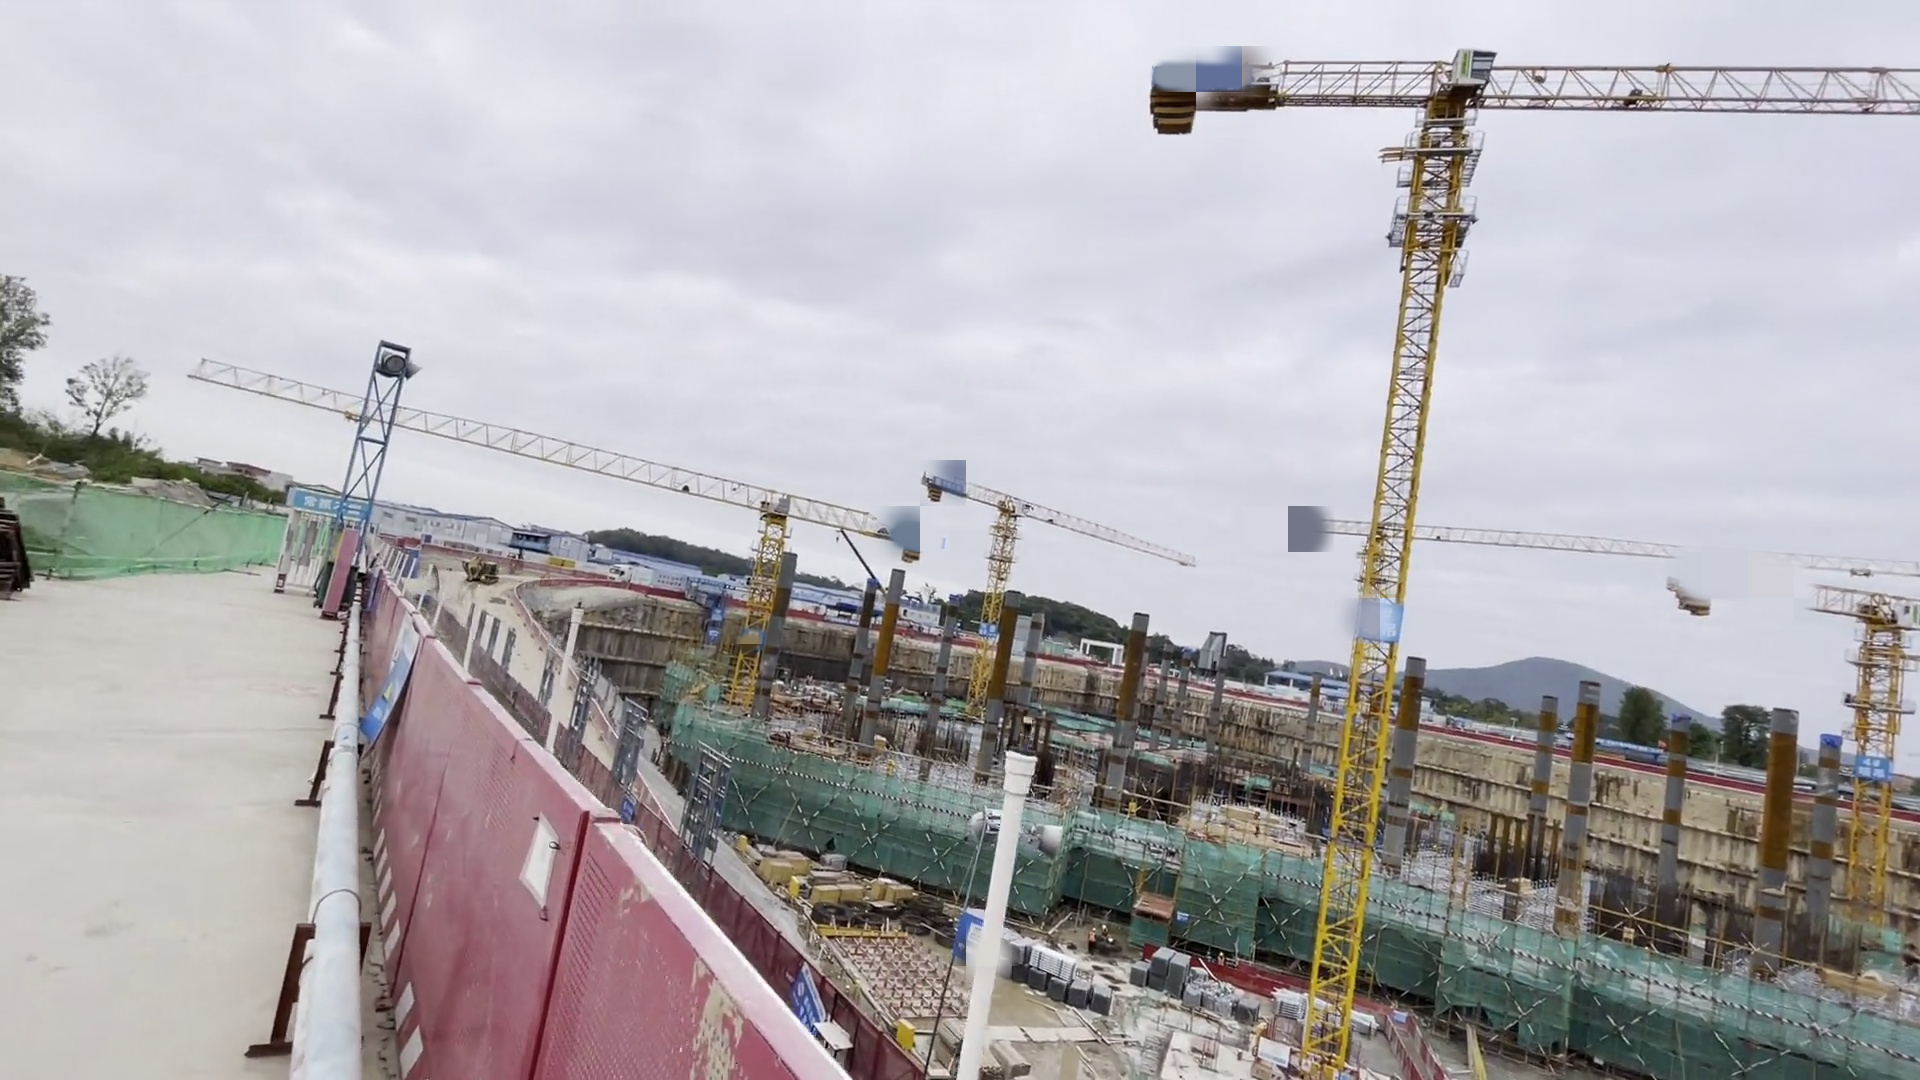fence: (215, 462, 856, 1072), (1296, 949, 1476, 1080)
scaffold: (1014, 961, 1121, 1014), (1129, 949, 1188, 998)
slogan: (351, 621, 426, 749), (785, 959, 829, 1040), (298, 487, 377, 527), (955, 907, 985, 964), (705, 600, 725, 647), (621, 785, 640, 824)
